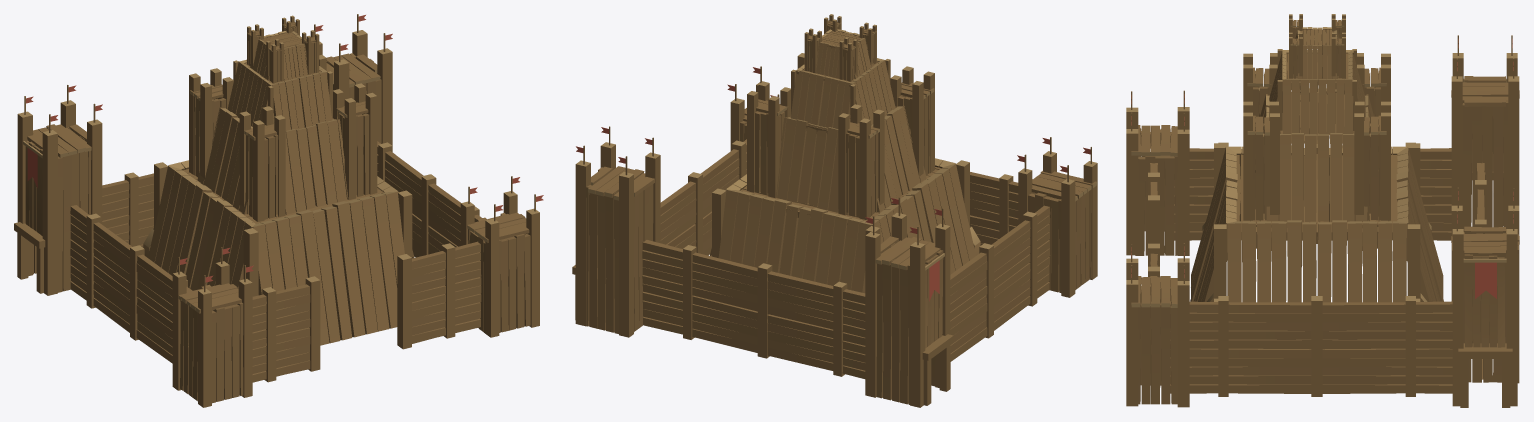
The model's file is Wonder_FirstAge_Level3.glb.
3 views of the same model, side by side, from view 1: azimuth 30°, elevation 25°; view 2: azimuth 150°, elevation 25°; view 3: azimuth 270°, elevation 25° (orthographic). The views are drawn at different scales.
Visible parts, largest first — view 1: Wonder_FirstAge_Level3; view 2: Wonder_FirstAge_Level3; view 3: Wonder_FirstAge_Level3.
Boxes of the visible parts, x1=… form: Wonder_FirstAge_Level3: x1=14, y1=14, x2=543, y2=407; Wonder_FirstAge_Level3: x1=572, y1=14, x2=1097, y2=407; Wonder_FirstAge_Level3: x1=1126, y1=14, x2=1519, y2=407.
Size of the model in its own units: 2.2 by 1.6 by 1.95.
